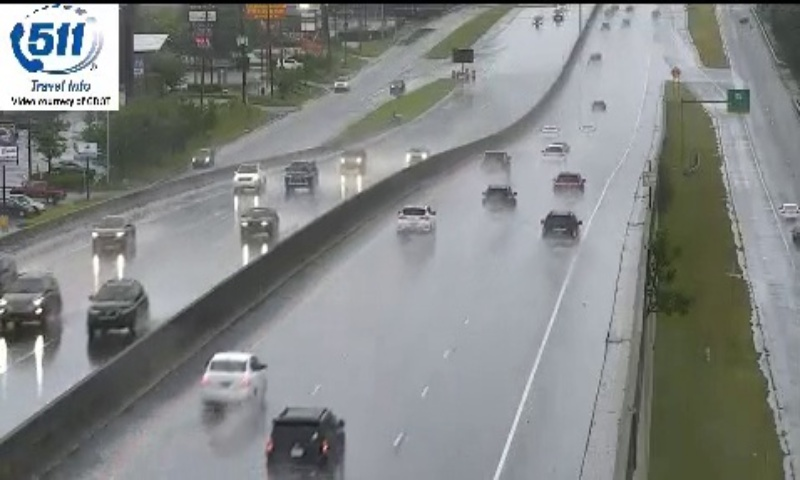car: (266, 407, 346, 478), (202, 352, 264, 403), (542, 209, 579, 240), (397, 205, 435, 235), (483, 184, 515, 215), (552, 173, 585, 196), (480, 150, 510, 175)
